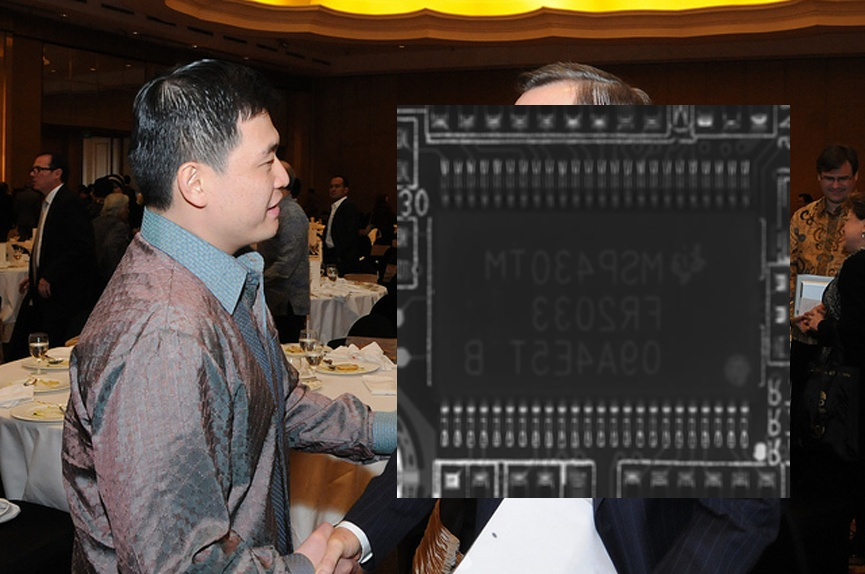PIN: (430, 152, 759, 218), (431, 396, 756, 456)
wineglass: (298, 328, 317, 375), (28, 333, 48, 376), (302, 344, 324, 379), (327, 267, 336, 291)
